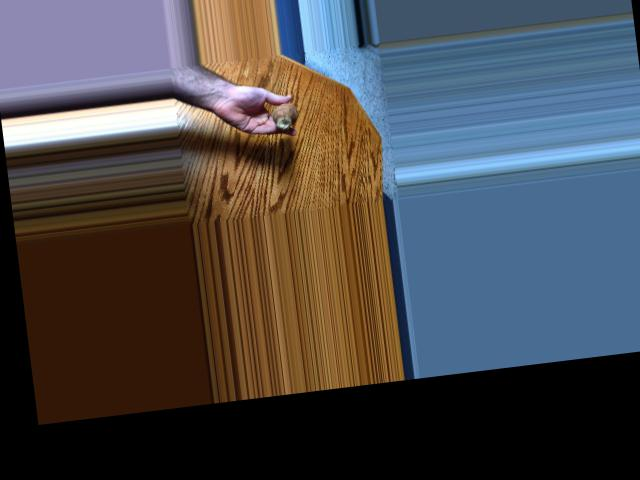sweet_potato: (271, 100, 301, 129)
